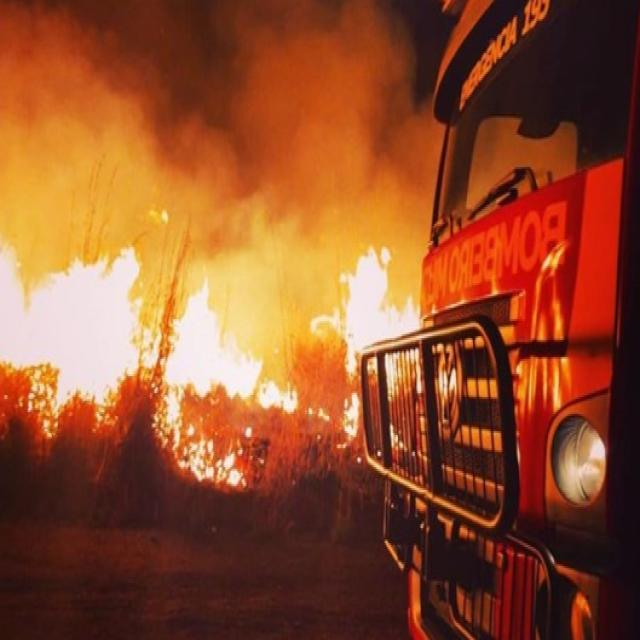Fire: (156, 381, 214, 472), (0, 218, 28, 370), (338, 245, 394, 296), (29, 360, 60, 448), (226, 348, 270, 403), (218, 426, 248, 488), (94, 385, 118, 440), (115, 245, 139, 298), (340, 387, 360, 439), (308, 310, 340, 332)
Smoke: (236, 34, 376, 158)
